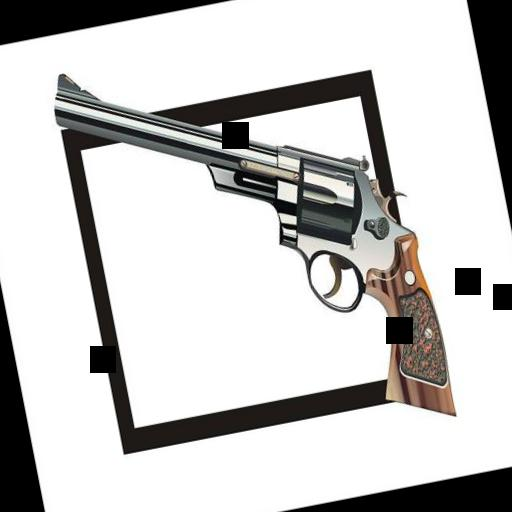Handgun: (44, 7, 459, 484)
